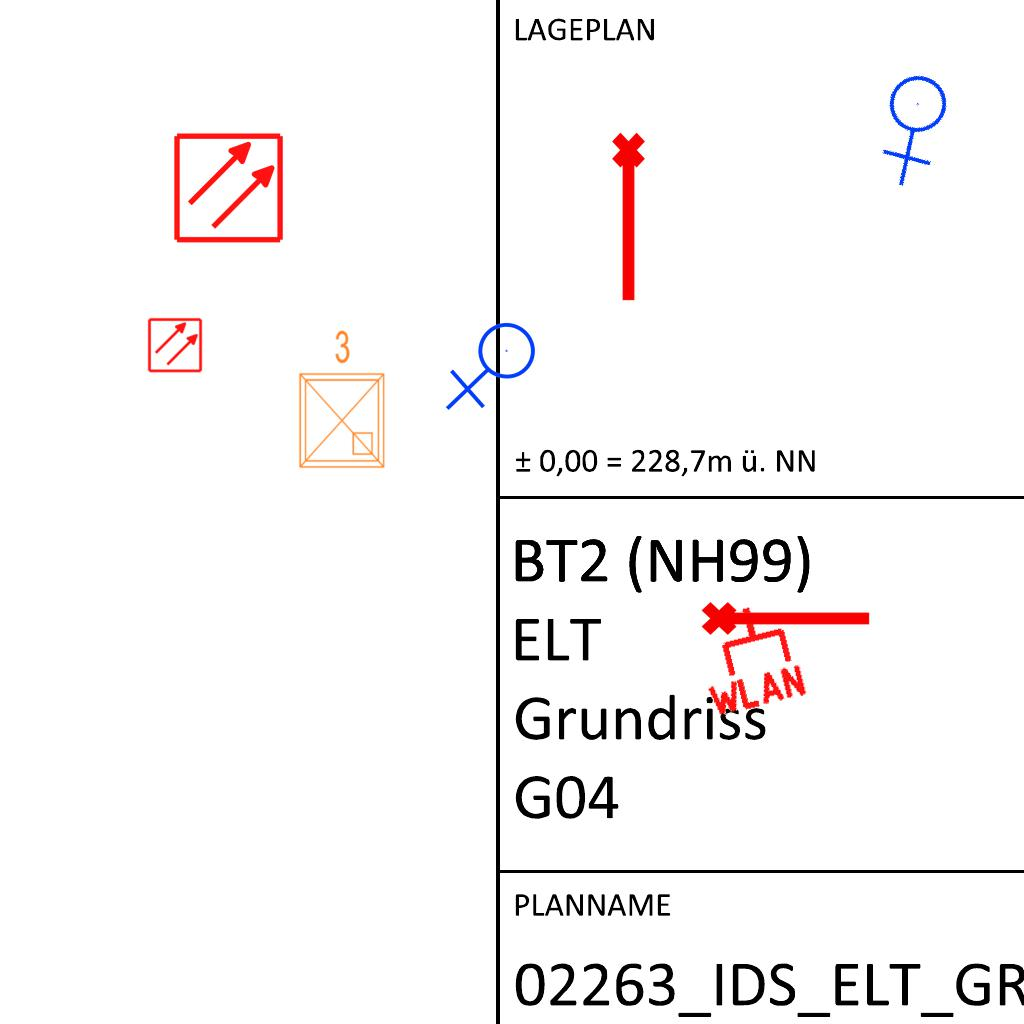ASR_Ansaugoeffnung: (608, 130, 654, 306), (699, 593, 875, 639)
Einbaudownlights_LED_Konferenzraeume: (288, 325, 392, 475)
Elektroanschluss_allgemein_230V_Geraeteanschlussdose_230V: (850, 58, 985, 192), (445, 321, 544, 415)
RMO_Rauchmelder_optischer: (172, 131, 285, 244), (147, 317, 203, 373)
WLAN: (685, 593, 812, 721)
